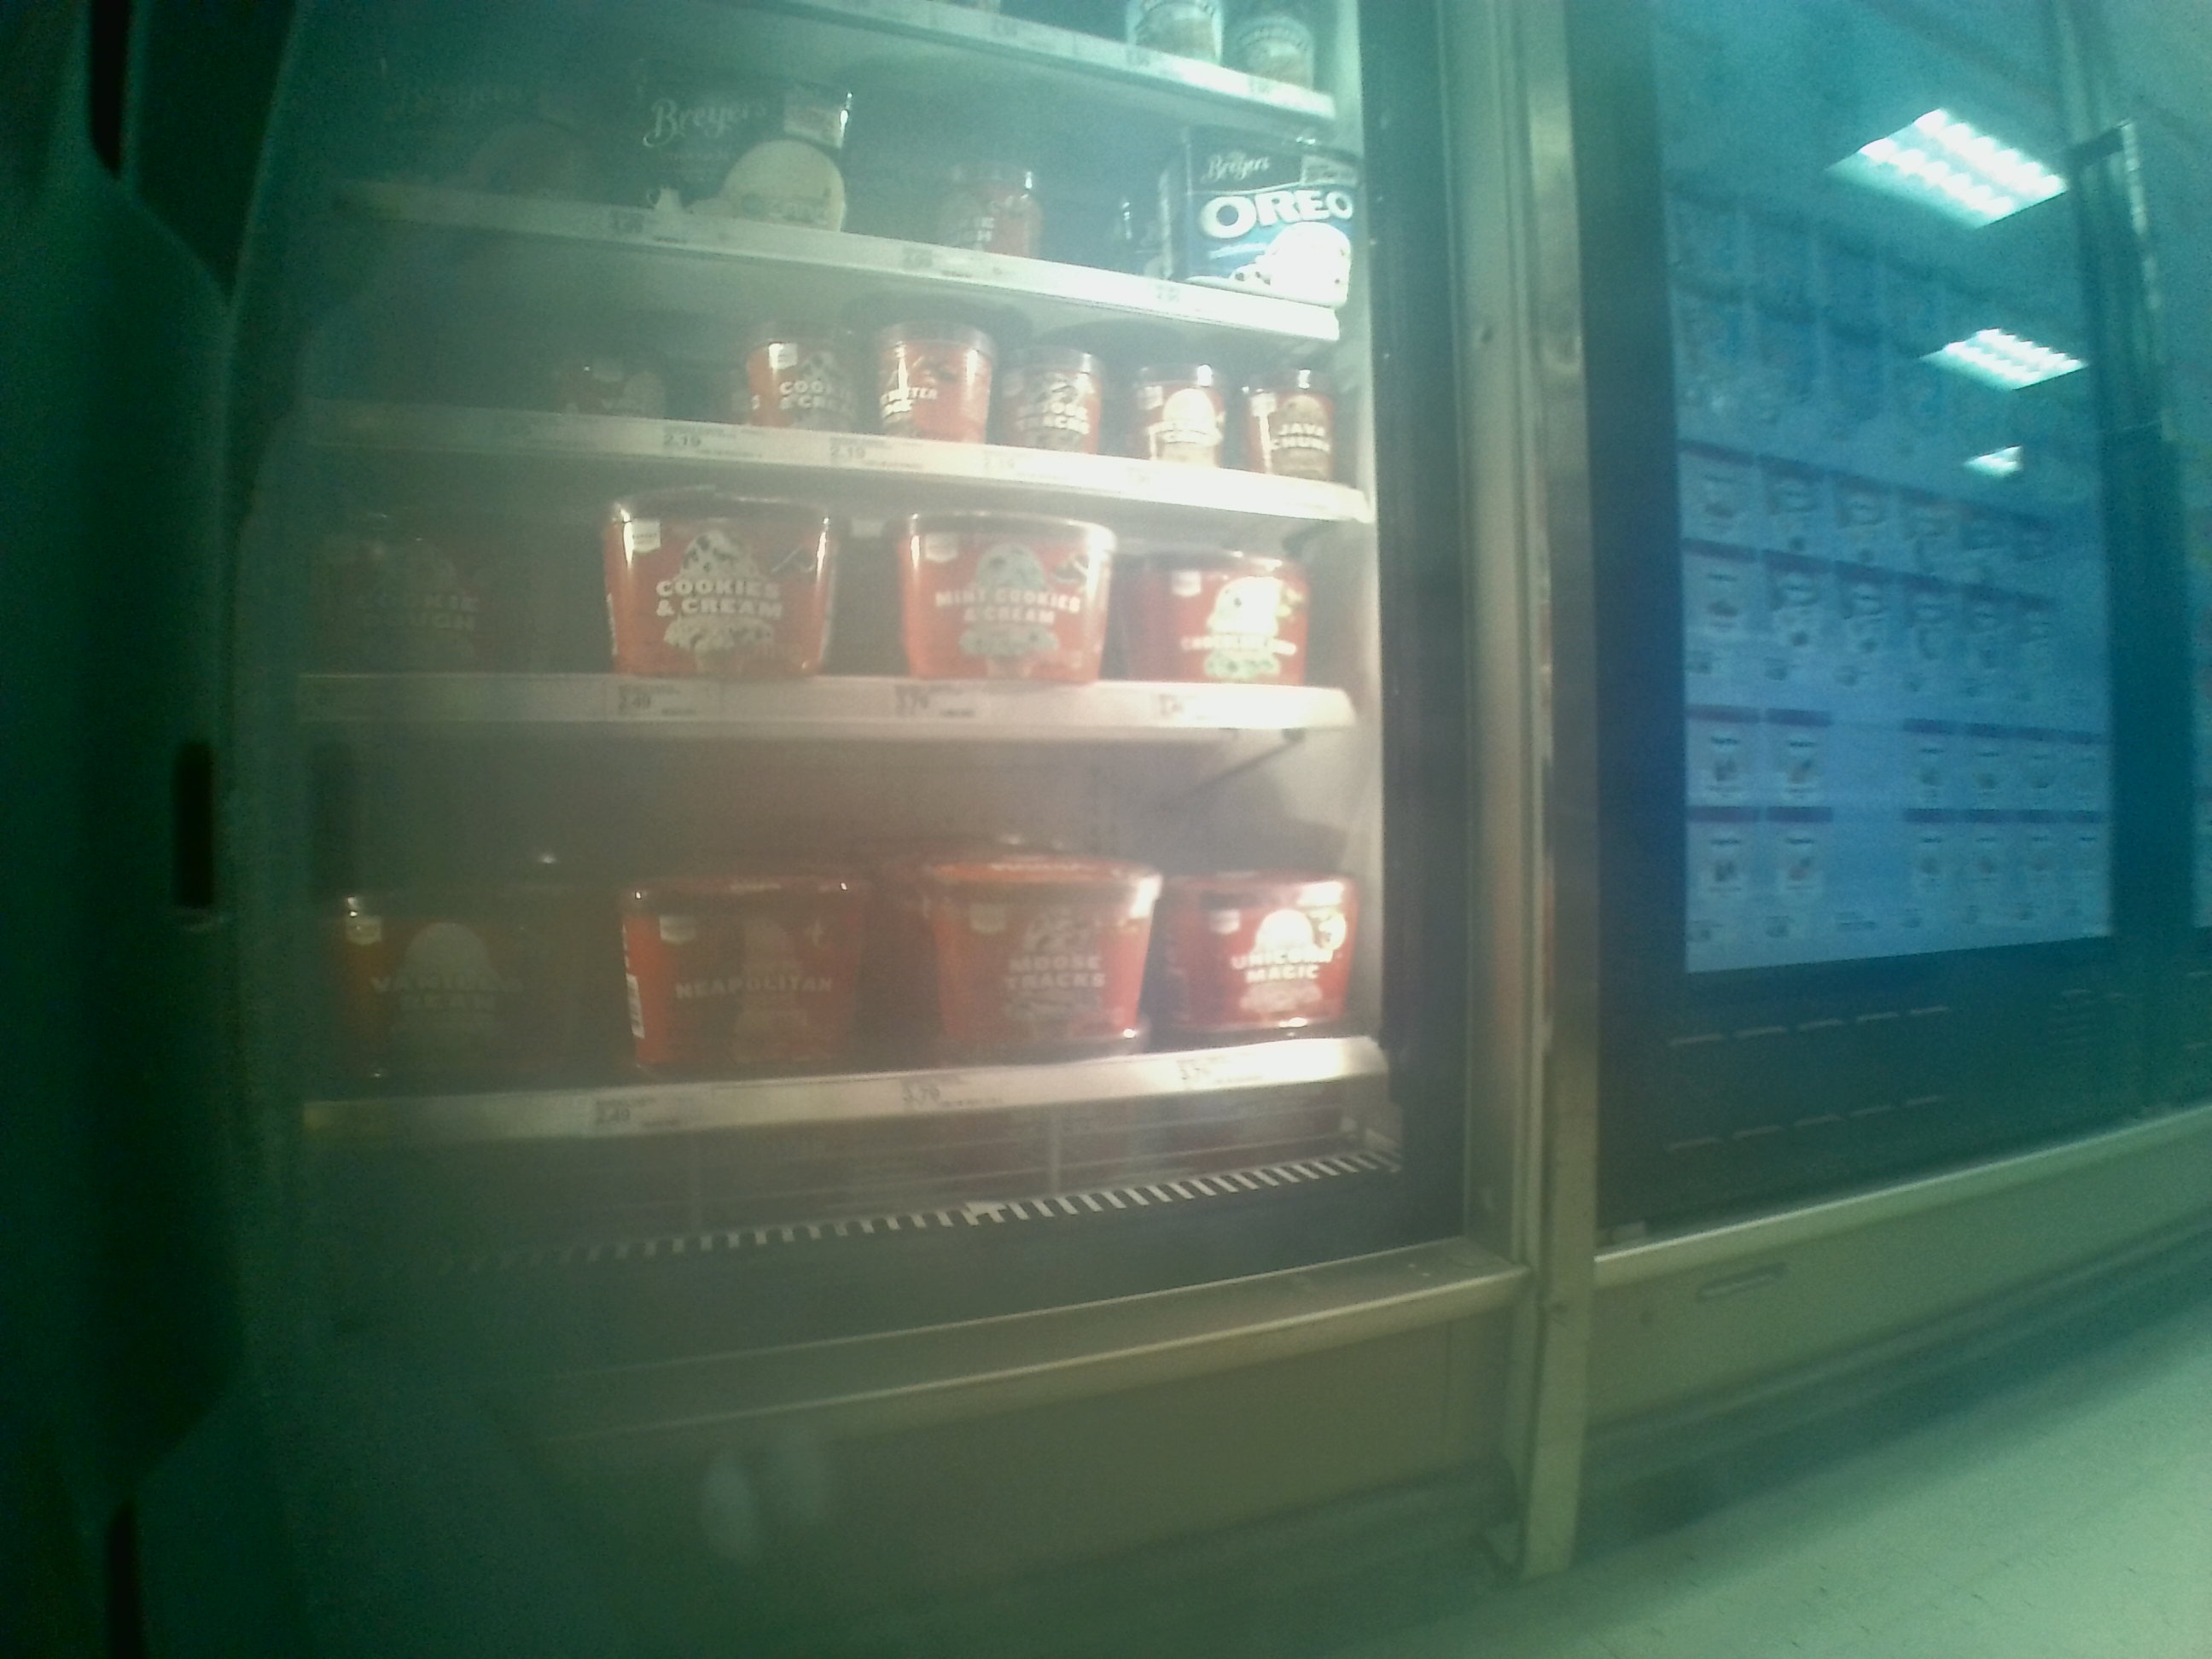ice-cream-shelf: (315, 737, 1390, 1150), (284, 448, 1393, 734)
